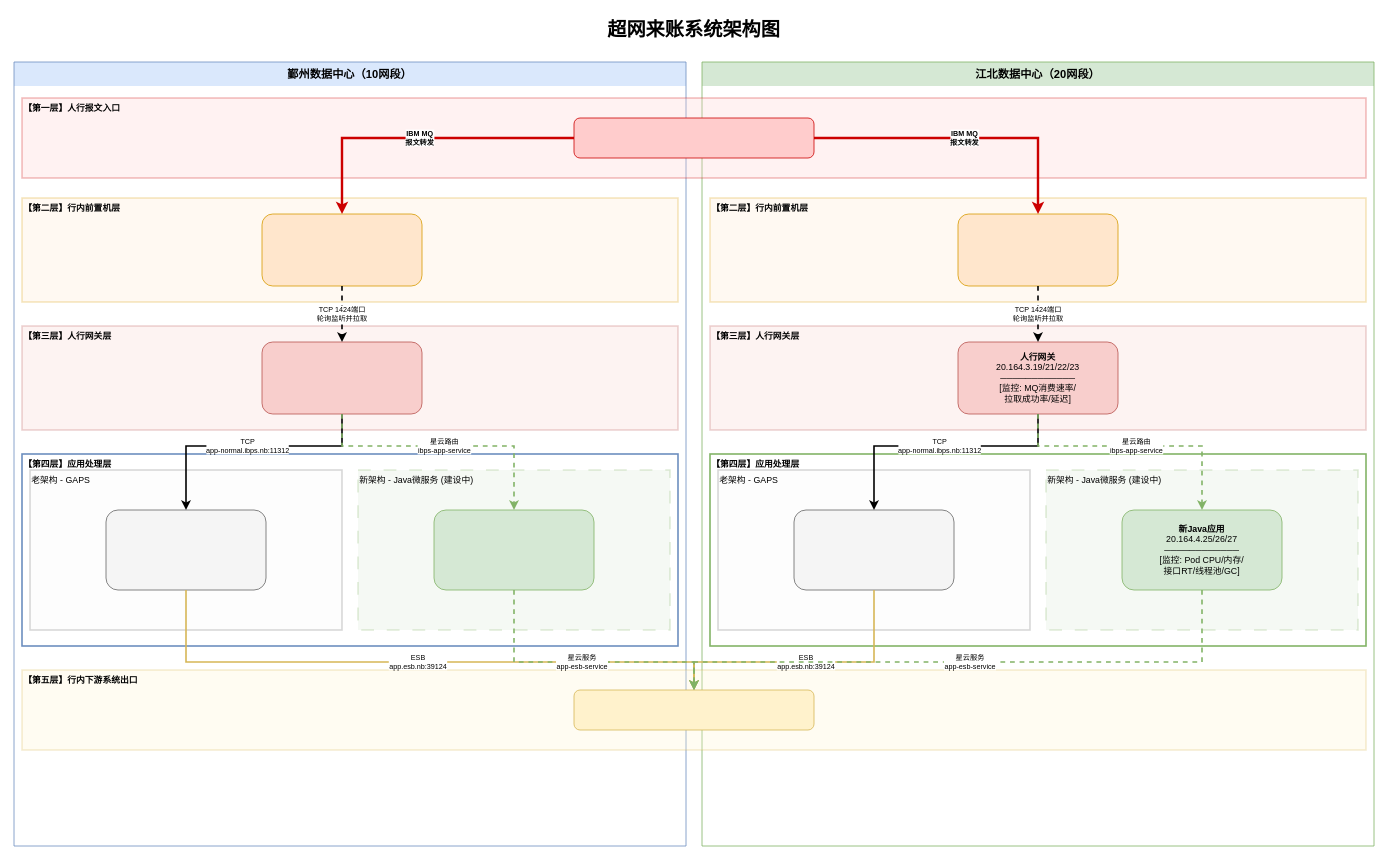
Image size: 1388x860. Some labels were removed from this diagram. Each missing label, with the centre of its shape:
"人行前置机 (人行端出口)" belongs at pixel 693 137.
"人行网关 10.164.3.19/21/22/23 ──────────── [监控: MQ消费速率/ 拉取成功率/延迟]" belongs at pixel 341 377.
"新Java应用 10.164.4.25/26/27 ──────────── [监控: Pod CPU/内存/ 接口RT/线程池/GC]" belongs at pixel 513 549.
"老GAPS应用 10.99.131.130/131 ──────────── [监控: 来账处理量/ 解析成功率/积压量]" belongs at pixel 185 549.
"老GAPS应用 20.99.131.130/131 ──────────── [监控: 来账处理量/ 解析成功率/积压量]" belongs at pixel 873 549.
"行内下游系统 (核心系统/会计系统等)" belongs at pixel 693 709.
"行内前置机 10.99.164.193/197 ──────────── [监控: MQ队列深度/ 磁盘IO/网络吞吐]" belongs at pixel 341 249.
"行内前置机 20.99.164.193/197 ──────────── [监控: MQ队列深度/ 磁盘IO/网络吞吐]" belongs at pixel 1037 249.
